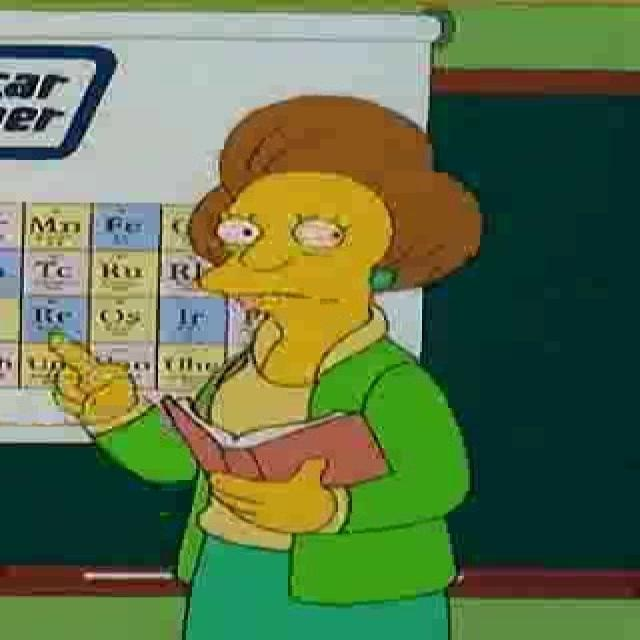Edna Krappel: (182, 94, 490, 373)
